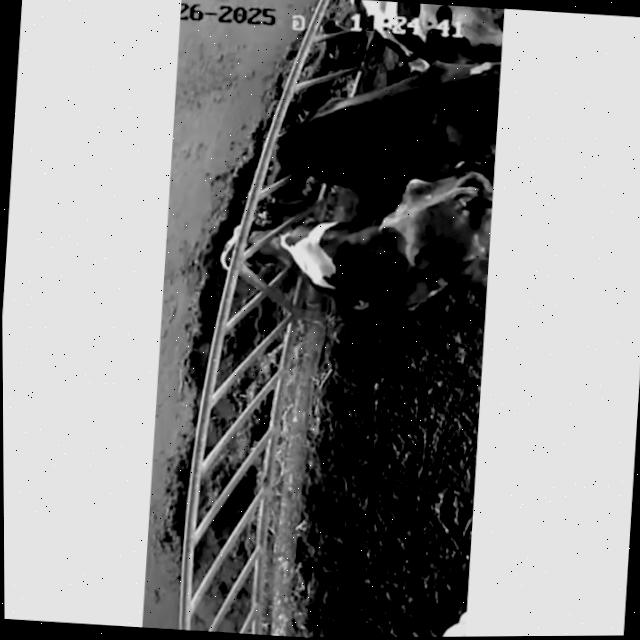eat: (198, 204, 358, 312), (238, 94, 379, 184), (274, 0, 412, 67)
